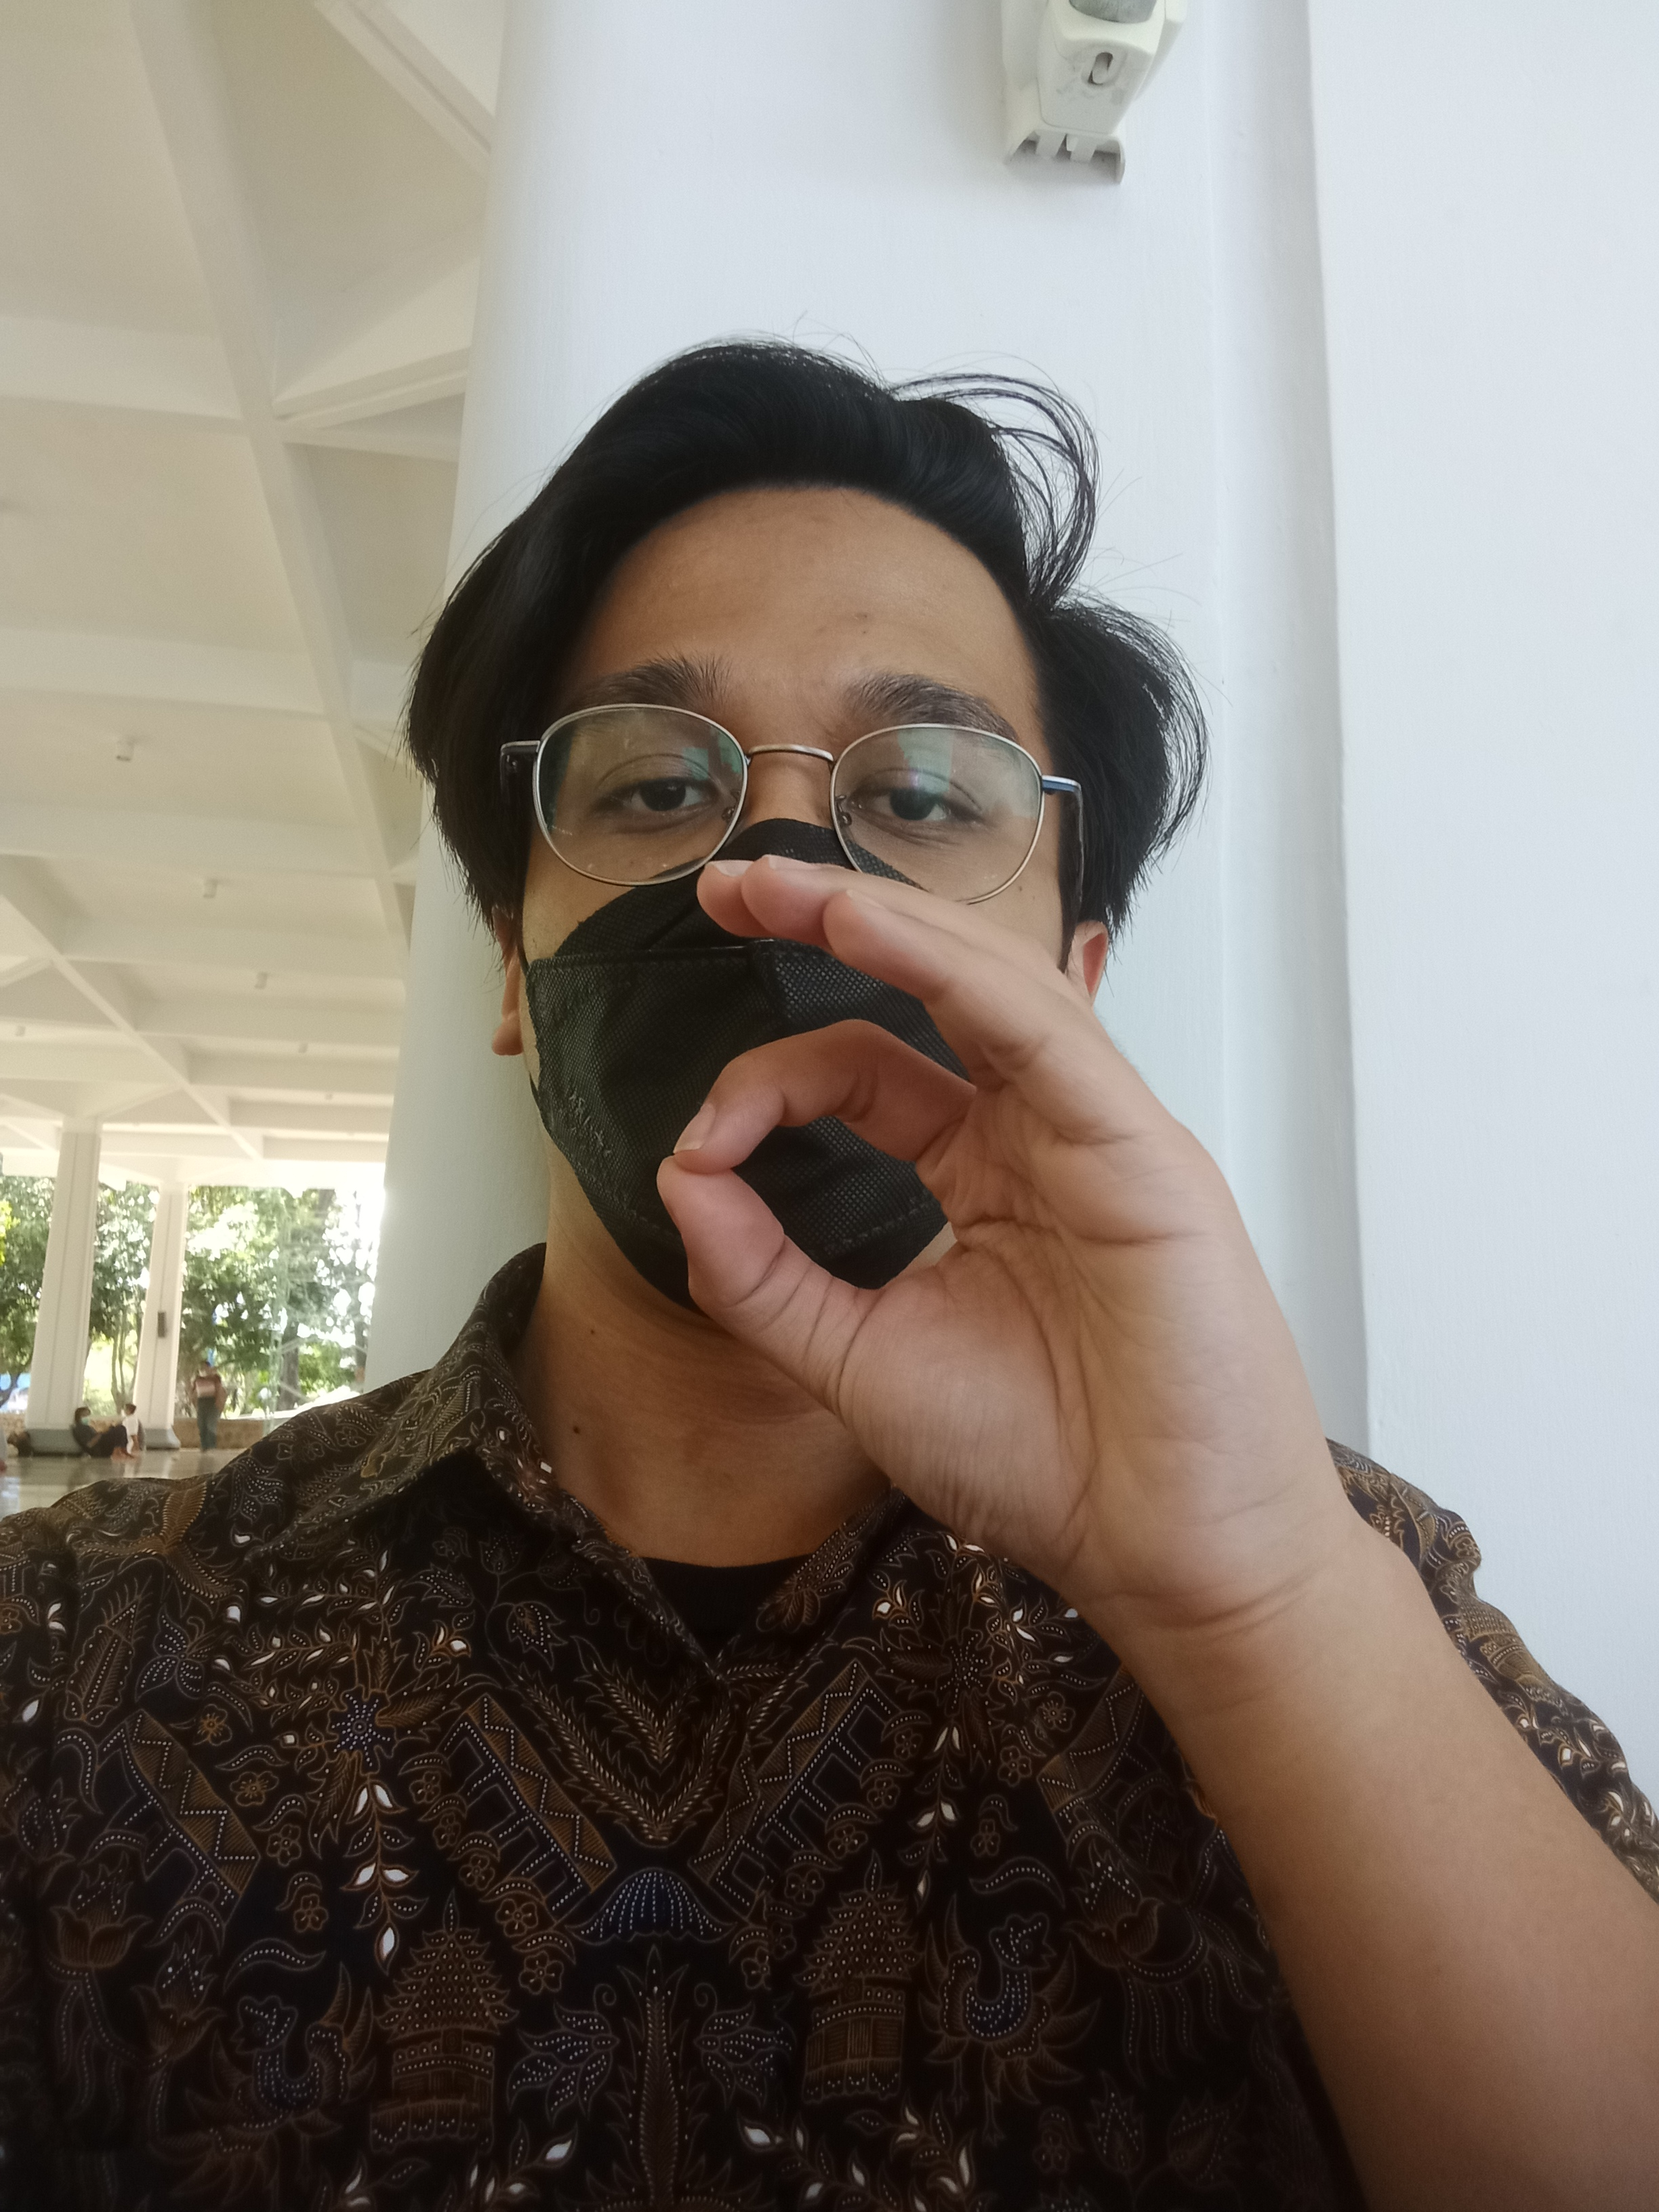O: (652, 822, 1427, 1695)
